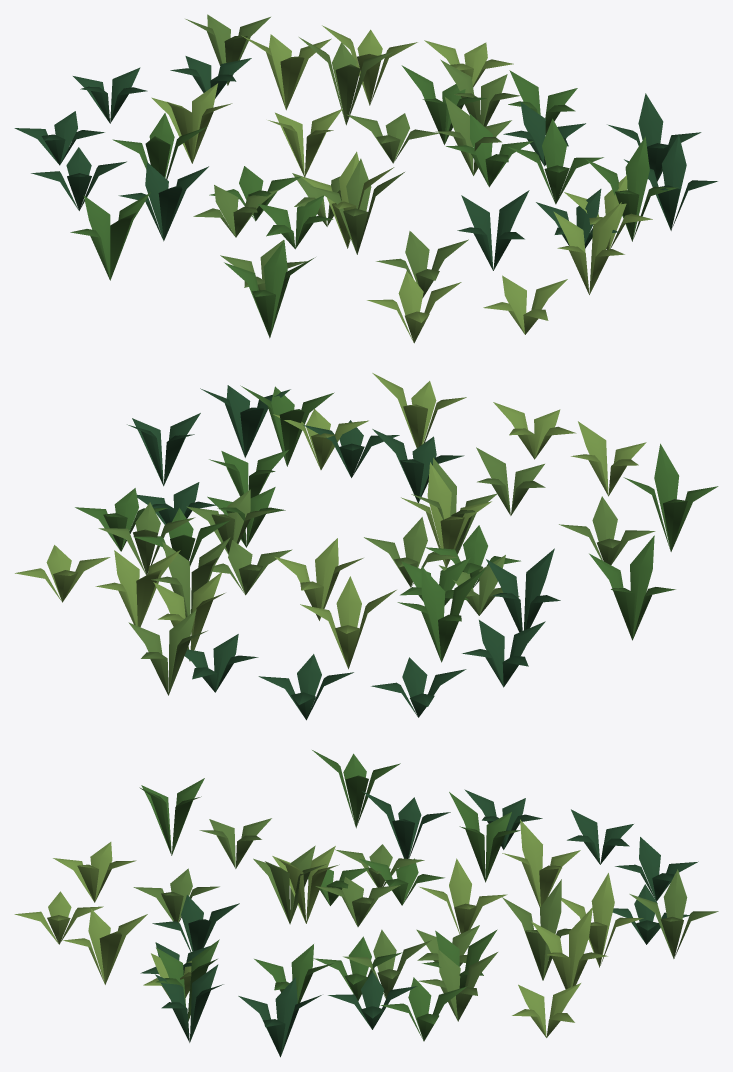
The model's file is meadow_moss.glb.
The picture shows the model from 3 angles, top to bottom: view 1: azimuth 30°, elevation 25°; view 2: azimuth 150°, elevation 25°; view 3: azimuth 270°, elevation 25°; orthographic projection. The views are drawn at different scales.
Visible parts, largest first — view 1: body; view 2: body; view 3: body.
Part boxes in pixels (<box>): body: <box>14,14,717,343</box>; body: <box>15,373,718,720</box>; body: <box>14,750,718,1057</box>.
Size of the model in its own units: 0.3203 by 0.0477 by 0.3584.
